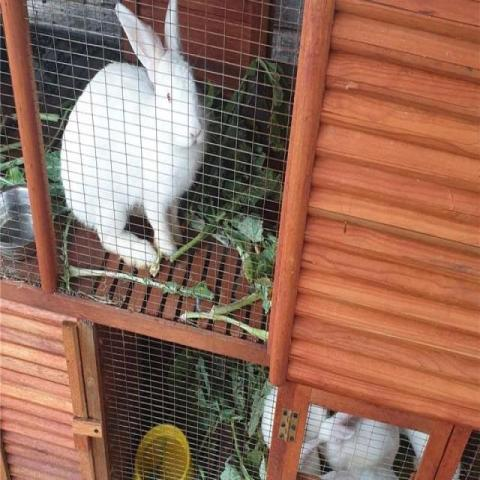small_animal: (57, 0, 209, 277), (310, 400, 400, 469)
